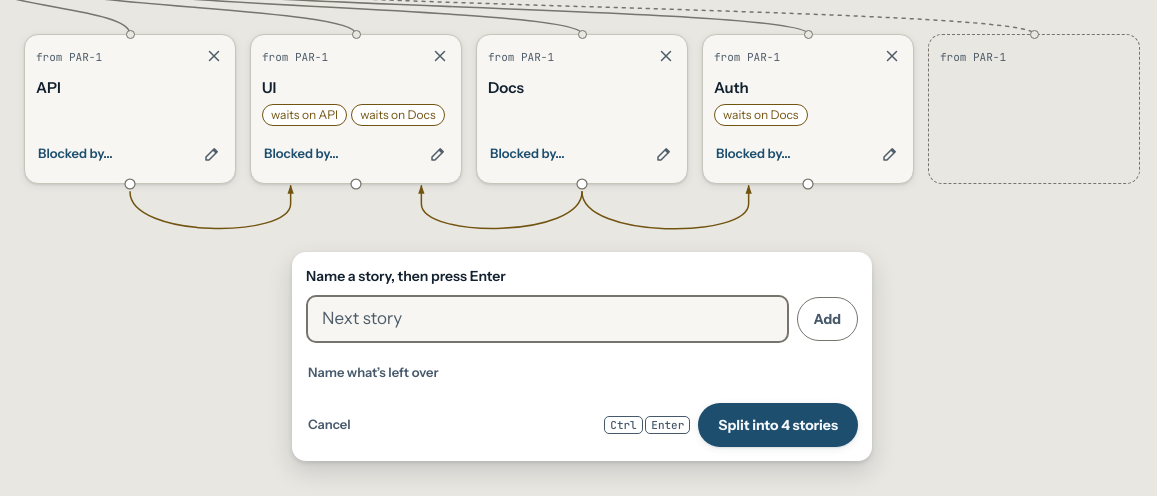
Test: unlinks by unticking, leaving every other link in place
The image size is (1157, 496).
Click the button with aria-label "Set what UI is blocked by". click: (301, 154)
box: [262,132,341,176]
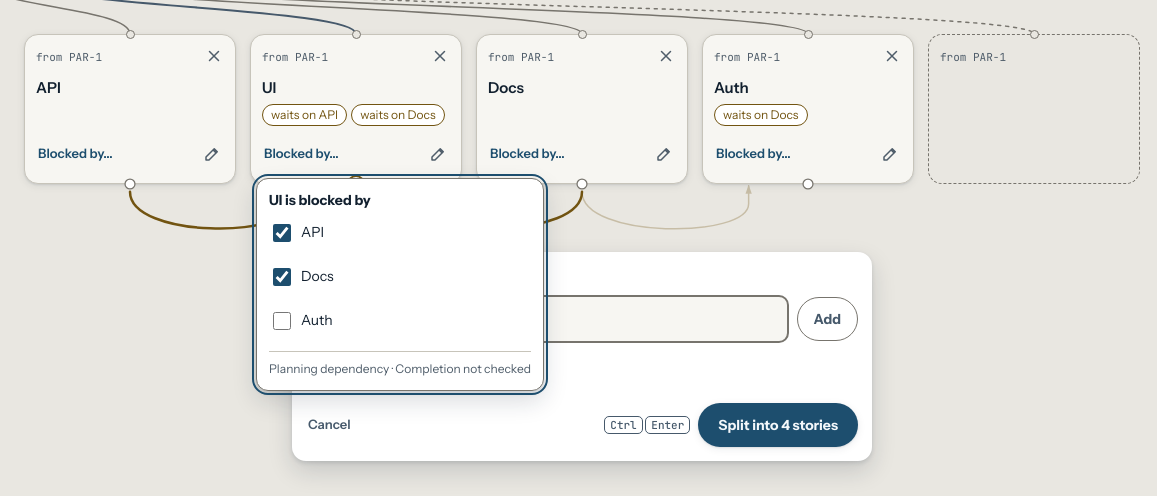
Click the checkbox labelled "API". click: (282, 233)
box: [273,224,291,242]
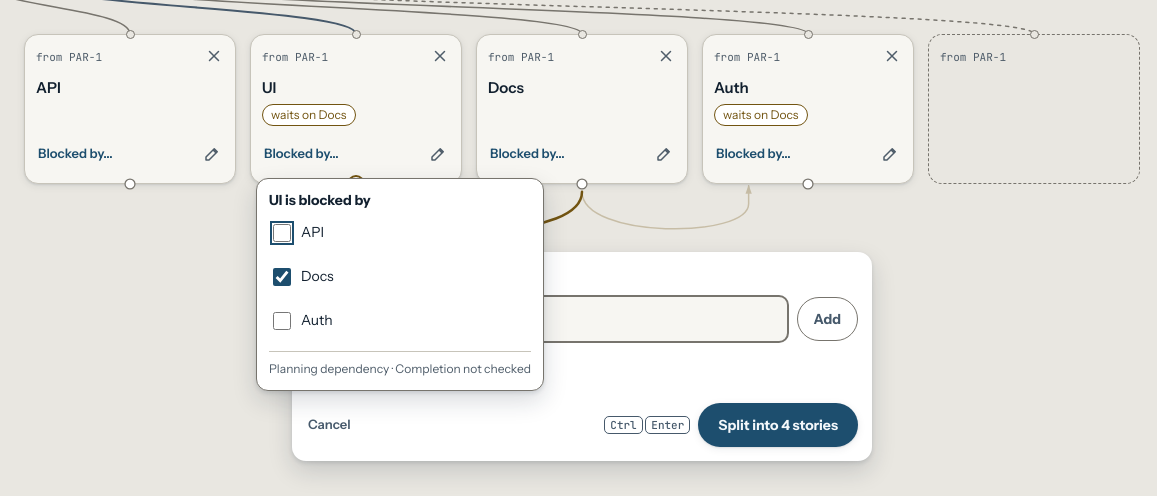
Now the list item "waits on API" is gone
